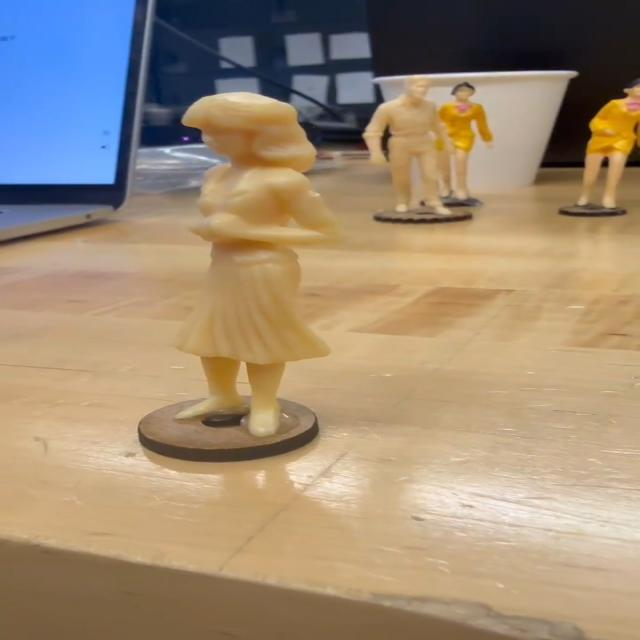Unauthorized: (175, 95, 335, 444)
